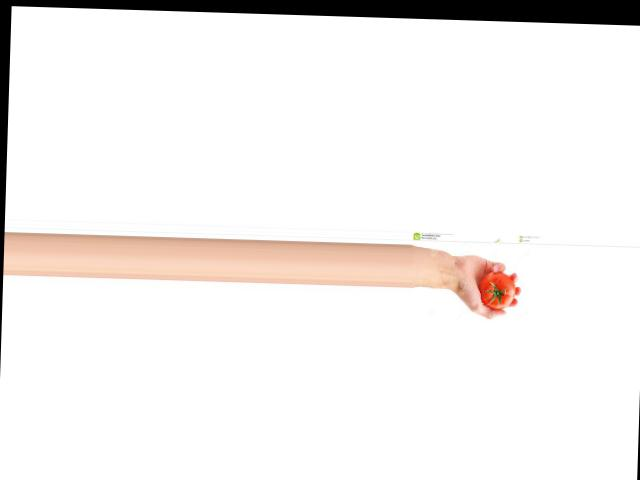tomato: (479, 270, 516, 309)
